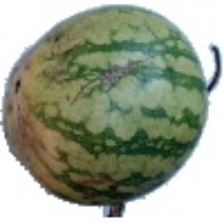watermelon: (20, 26, 210, 198)
